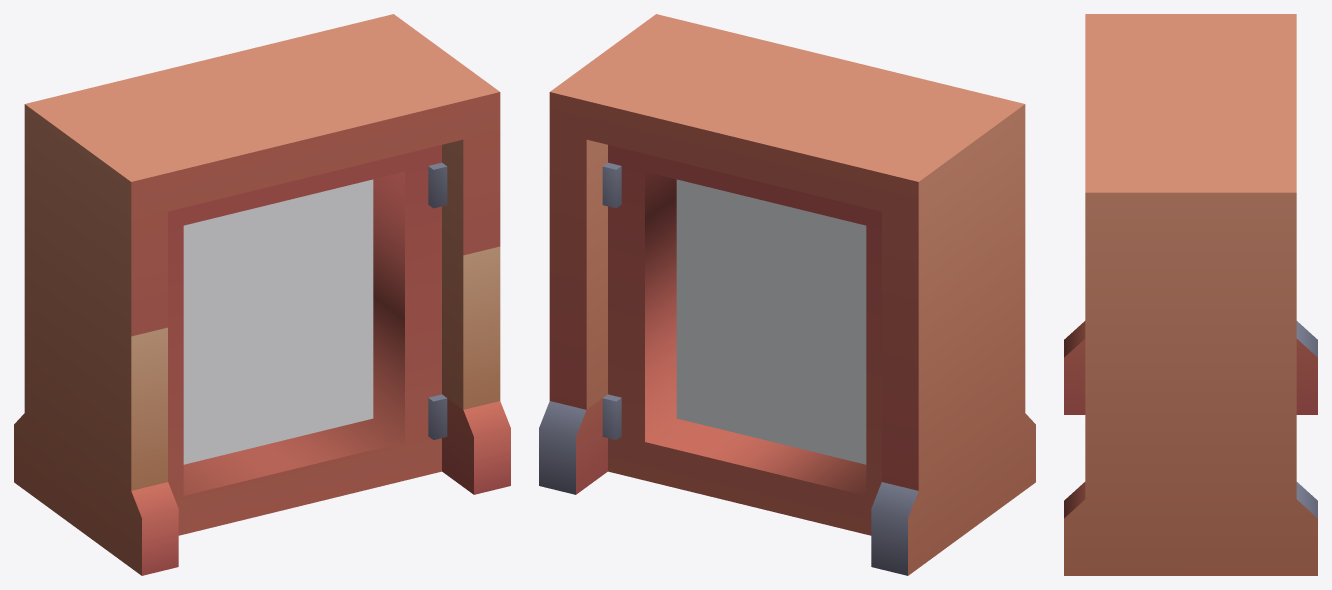
Rendered from wall-window.obj.
3 views of the same model, side by side, from view 1: azimuth 30°, elevation 25°; view 2: azimuth 150°, elevation 25°; view 3: azimuth 270°, elevation 25° (orthographic).
Visible parts, largest first — view 1: wall-window, (%ignore); view 2: wall-window, (%ignore); view 3: wall-window.
Part boxes in pixels (x1,y1,x2,y2): wall-window: (14,14,510,575); (%ignore): (183,179,373,464); wall-window: (539,14,1035,575); (%ignore): (676,179,866,464); wall-window: (1064,14,1317,575).
Size of the model in its own units: 1 by 1 by 0.6.
